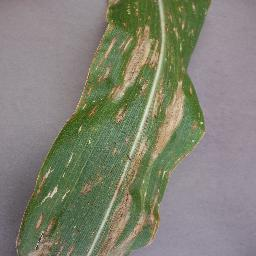Corn_Blight: (14, 210, 164, 256), (84, 2, 160, 74), (141, 76, 189, 170), (190, 3, 209, 154), (164, 0, 189, 76), (113, 144, 140, 209), (68, 74, 102, 118), (141, 172, 181, 208), (30, 164, 55, 208), (112, 76, 131, 126), (82, 170, 107, 196), (66, 148, 74, 170), (61, 187, 72, 201), (75, 122, 85, 137)
